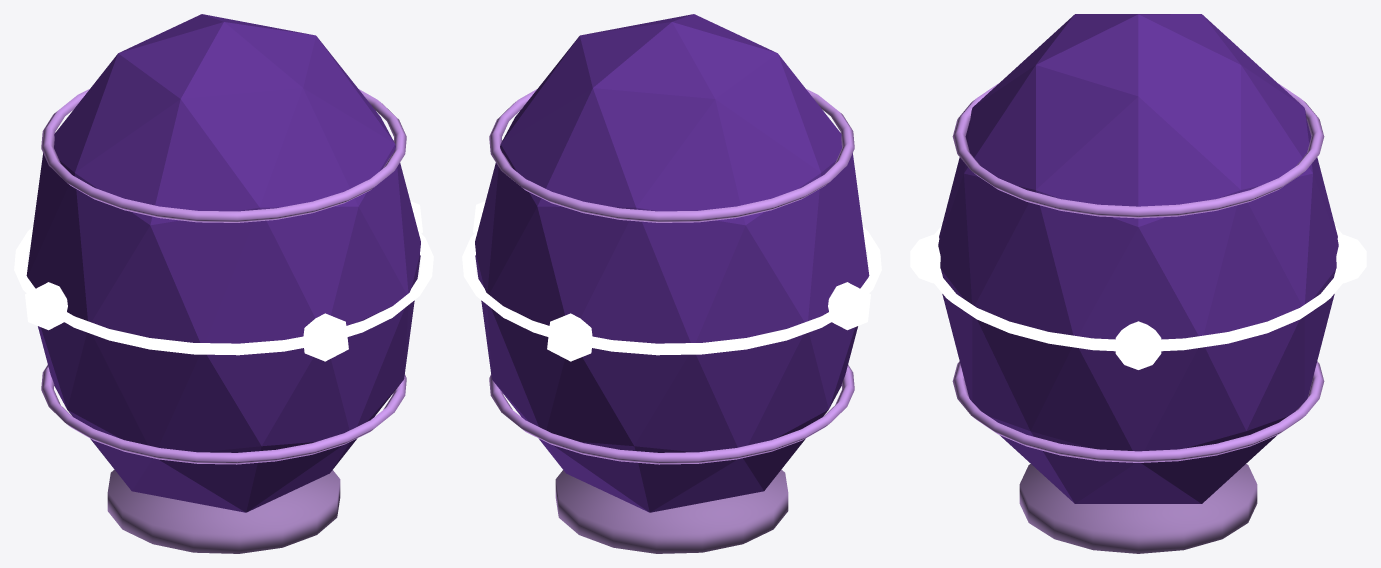
Rendered from egg_cosmic_09.glb.
3 renders of one model, left to right at view 1: azimuth 30°, elevation 25°; view 2: azimuth 150°, elevation 25°; view 3: azimuth 270°, elevation 25°, orthographic.
Parts seen in each view (by area): view 1: ico; view 2: ico; view 3: ico.
Part boxes in pixels (x1,y1,x2,y2): ico: (14,14,433,553); ico: (462,14,881,553); ico: (910,14,1366,553).
Size of the model in its own units: 0.8494 by 1 by 0.8451.
